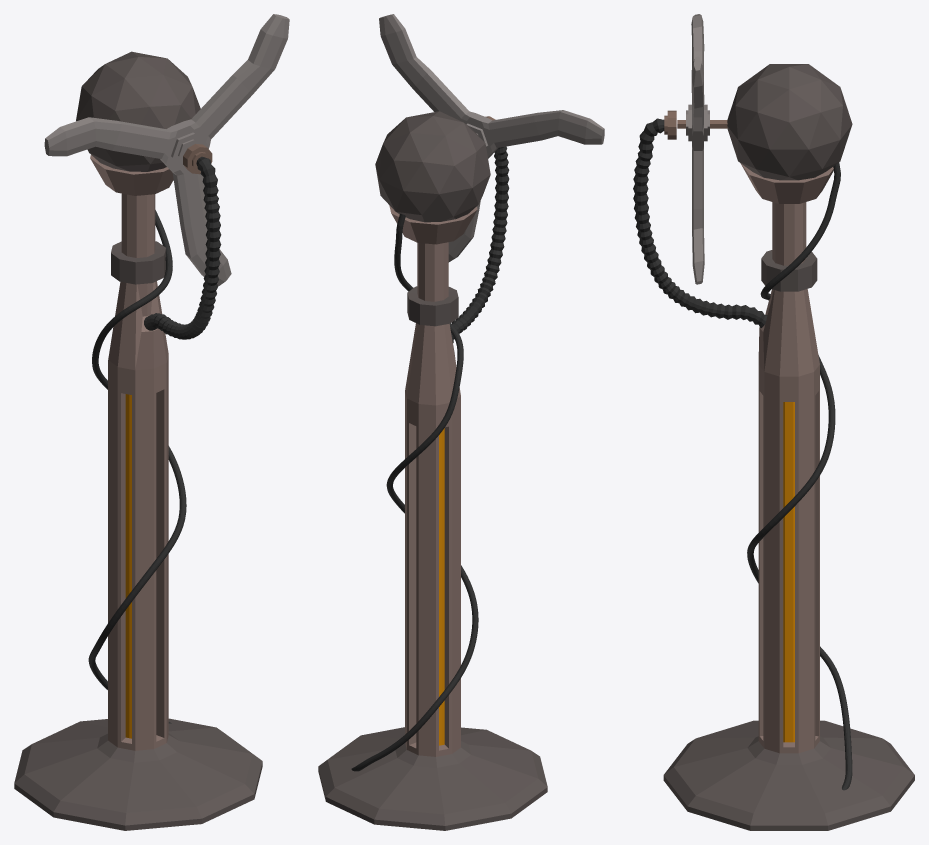
Rendered from fanfbx (1).fbx.
3 renders of one model, left to right at view 1: azimuth 30°, elevation 25°; view 2: azimuth 150°, elevation 25°; view 3: azimuth 270°, elevation 25°, orthographic. The views are drawn at different scales.
Visible parts, largest first — view 1: Cylinder.001, Cylinder, Cylinder.002, Icosphere, Cube.001, Cube, Cylinder.006, Cylinder.004, Cylinder.005; view 2: Cylinder.001, Cylinder, Icosphere, Cylinder.002, Cube.001, Cube, Cylinder.006, Cylinder.004; view 3: Cylinder.001, Cylinder, Icosphere, Cube, Cube.001, Cylinder.006, Cylinder.002, Cylinder.004.
Part boxes in pixels (x1,y1,x2,y2): Cylinder.001: (90, 155, 173, 750); Cylinder: (14, 718, 262, 830); Cylinder.002: (44, 14, 289, 286); Icosphere: (76, 51, 200, 171); Cube.001: (88, 210, 186, 723); Cube: (144, 156, 221, 339); Cylinder.006: (125, 394, 131, 738); Cylinder.004: (111, 241, 165, 284); Cylinder.005: (183, 143, 212, 174); Cylinder.001: (389, 205, 477, 756); Cylinder: (318, 727, 547, 830); Icosphere: (375, 111, 490, 222); Cylinder.002: (379, 14, 604, 262); Cube.001: (351, 213, 478, 771); Cube: (451, 146, 509, 342); Cylinder.006: (439, 428, 444, 745); Cylinder.004: (407, 286, 458, 326); Cylinder.001: (740, 163, 833, 753); Cylinder: (663, 720, 914, 830); Icosphere: (727, 64, 852, 180); Cube: (633, 118, 767, 327); Cube.001: (747, 162, 852, 790); Cylinder.006: (783, 402, 794, 742); Cylinder.002: (686, 14, 709, 284); Cylinder.004: (761, 250, 817, 291).
Bounding box in the file's own units: 906 × 2757 × 918.
